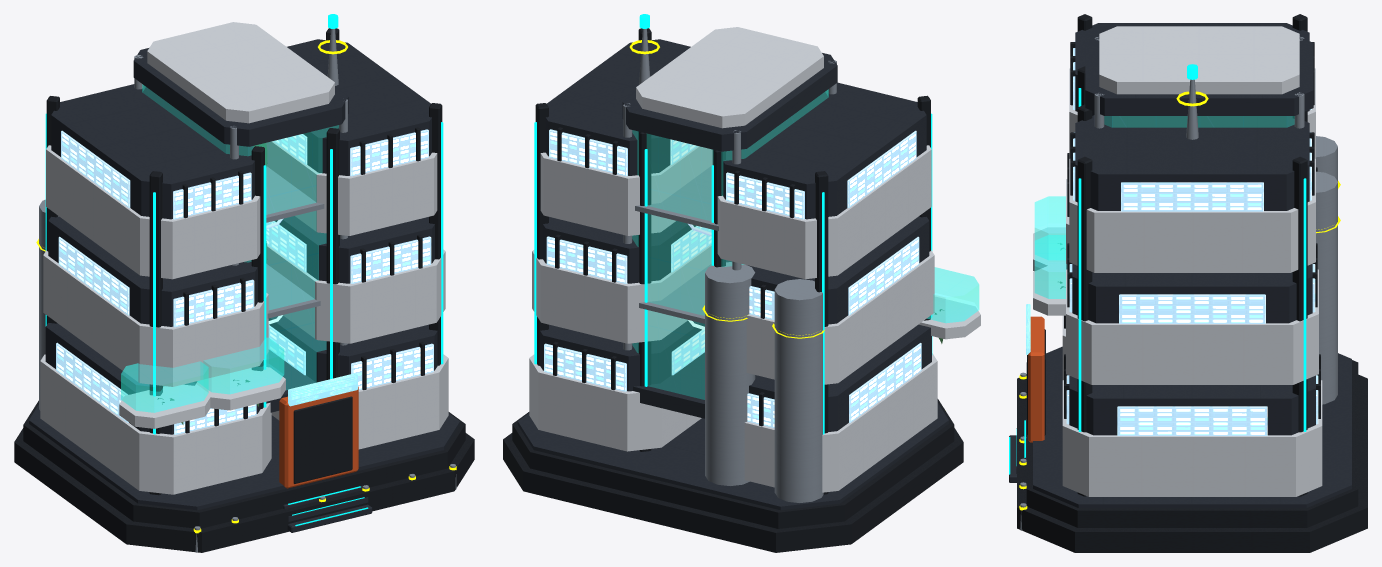
The model's file is bldg_03_r1_03.glb.
3 views of the same model, side by side, from view 1: azimuth 30°, elevation 25°; view 2: azimuth 150°, elevation 25°; view 3: azimuth 270°, elevation 25° (orthographic). The views are drawn at different scales.
Visible parts, largest first — view 1: Bldg03_C03_aero_white, Bldg03_C03_carbon_slate, Bldg03_C03_gunmetal, Bldg03_C03_window_lit, Bldg03_C03_glass_emerald, Bldg03_C03_steel_machined, Bldg03_C03_led_cyan, Bldg03_C03_accent_orange, Bldg03_C03_marquee; view 2: Bldg03_C03_aero_white, Bldg03_C03_carbon_slate, Bldg03_C03_gunmetal, Bldg03_C03_steel_machined, Bldg03_C03_window_lit, Bldg03_C03_glass_emerald, Bldg03_C03_led_cyan; view 3: Bldg03_C03_aero_white, Bldg03_C03_carbon_slate, Bldg03_C03_gunmetal, Bldg03_C03_window_lit, Bldg03_C03_steel_machined, Bldg03_C03_glass_emerald, Bldg03_C03_led_cyan, Bldg03_C03_accent_orange, Bldg03_C03_led_amber.
Boxes of the visible parts, left/top/right/bottom form: Bldg03_C03_aero_white: left=40, top=22, right=448, bottom=494; Bldg03_C03_carbon_slate: left=29, top=39, right=459, bottom=532; Bldg03_C03_gunmetal: left=14, top=28, right=474, bottom=552; Bldg03_C03_window_lit: left=56, top=129, right=433, bottom=434; Bldg03_C03_glass_emerald: left=121, top=84, right=338, bottom=412; Bldg03_C03_steel_machined: left=39, top=29, right=456, bottom=552; Bldg03_C03_led_cyan: left=45, top=14, right=443, bottom=526; Bldg03_C03_accent_orange: left=279, top=386, right=358, bottom=488; Bldg03_C03_marquee: left=288, top=373, right=357, bottom=406; Bldg03_C03_aero_white: left=529, top=27, right=980, bottom=492; Bldg03_C03_carbon_slate: left=517, top=39, right=948, bottom=510; Bldg03_C03_gunmetal: left=503, top=28, right=963, bottom=552; Bldg03_C03_steel_machined: left=623, top=29, right=836, bottom=502; Bldg03_C03_window_lit: left=544, top=129, right=921, bottom=428; Bldg03_C03_glass_emerald: left=632, top=89, right=979, bottom=399; Bldg03_C03_led_cyan: left=534, top=14, right=932, bottom=434; Bldg03_C03_aero_white: left=1033, top=26, right=1322, bottom=496; Bldg03_C03_carbon_slate: left=1009, top=23, right=1351, bottom=508; Bldg03_C03_gunmetal: left=1017, top=14, right=1367, bottom=552; Bldg03_C03_window_lit: left=1066, top=41, right=1318, bottom=435; Bldg03_C03_steel_machined: left=1020, top=37, right=1337, bottom=530; Bldg03_C03_glass_emerald: left=1034, top=116, right=1294, bottom=298; Bldg03_C03_led_cyan: left=1009, top=64, right=1306, bottom=474; Bldg03_C03_accent_orange: left=1028, top=316, right=1044, bottom=442; Bldg03_C03_led_amber: left=1019, top=91, right=1340, bottom=510.
Size of the model in its own units: 12.15 by 13.93 by 10.23.
14 materials, 14 textured.
